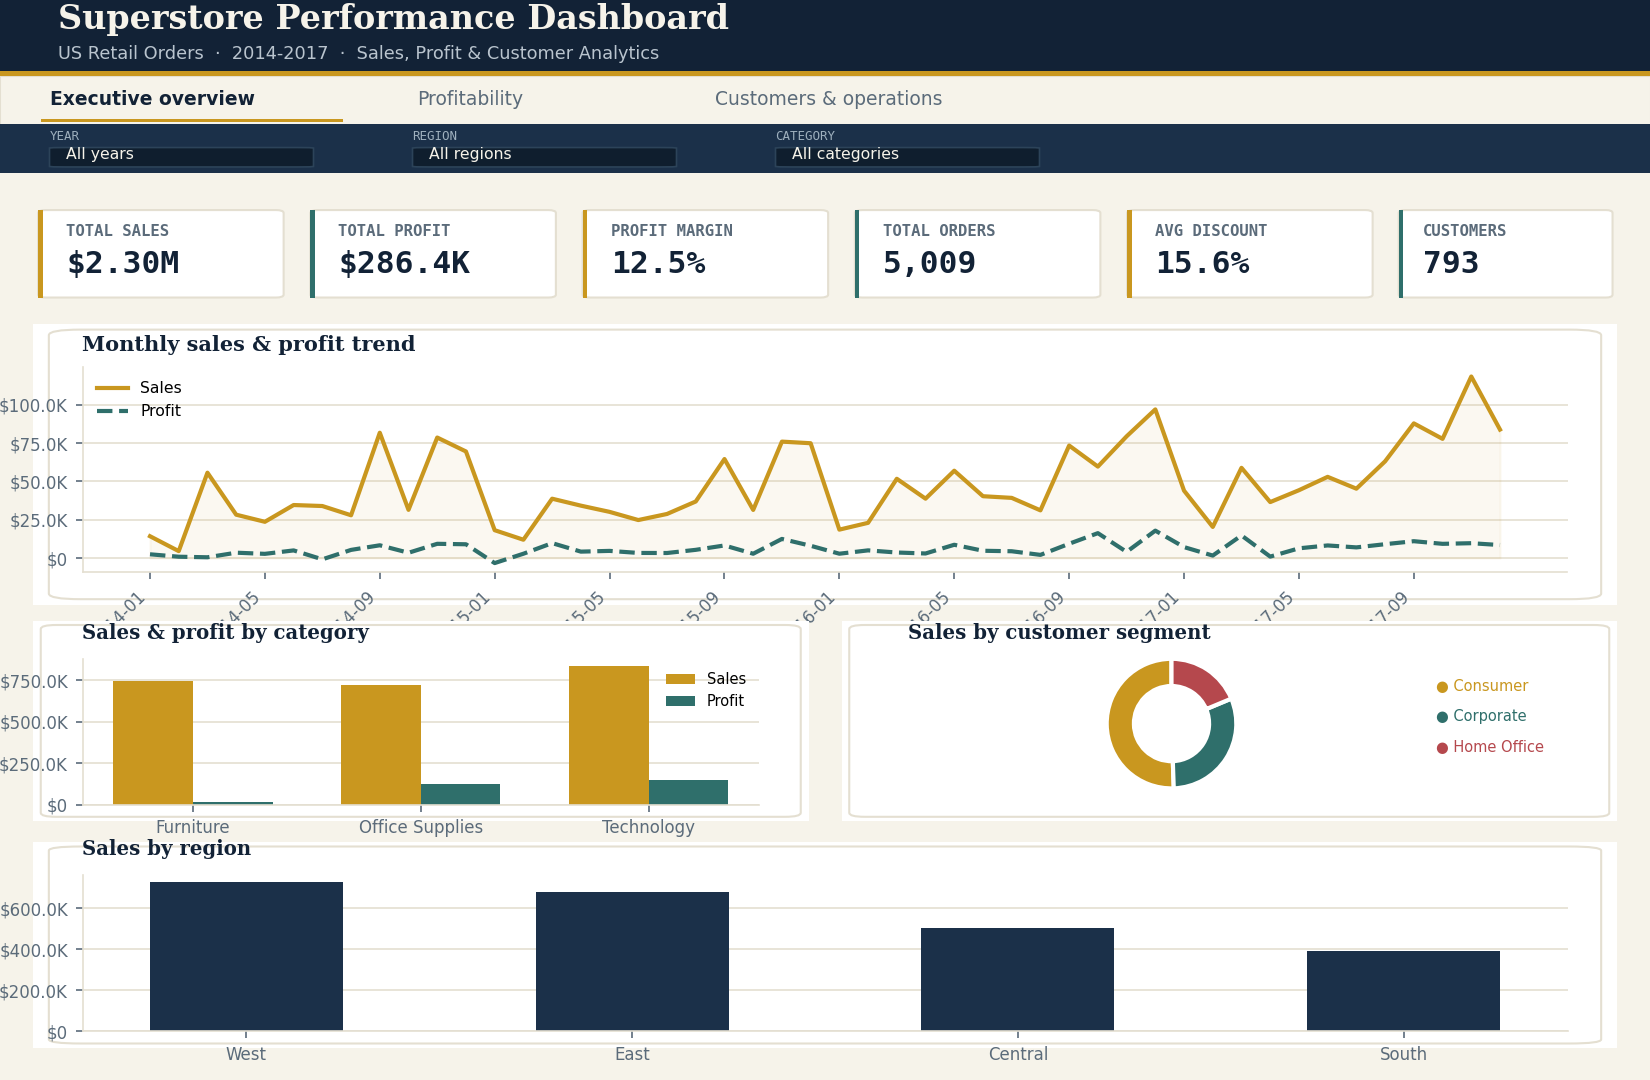

What the dashboard file says about the page in this screenshot:
{"tool":"powerbi","page":{"name":"Overview","canvas":[1700,1800],"ordinal":0},"visuals":[{"type":"cardVisual","fields":{"Data":["customer.Total Sales"]},"box":[15,317.5,340,165],"z":0},{"type":"lineChart","title":"Monthly sales & profit trend","fields":{"Category":["DateTable.Date"],"Y":["customer.Total Sales","customer.Total Profit"]},"box":[15,505,1620,462.5],"z":1000},{"type":"clusteredColumnChart","title":"Sales & profit by category","fields":{"Category":["customer.Category"],"Y":["customer.Total Sales","customer.Total Profit"]},"box":[15,990,820,455],"z":2000},{"type":"donutChart","title":"Sales by customer segment","fields":{"Category":["customer.Segment"],"Y":["customer.Total Sales"]},"box":[900,990,735,455],"z":3000},{"type":"barChart","title":"Sales by region","fields":{"Category":["customer.Region"],"Y":["customer.Total Sales"]},"box":[15,1485,1620,280],"z":4000},{"type":"shape","box":[0,0,1800,126],"z":5000},{"type":"textbox","box":[0,0,1800,105],"z":6000},{"type":"shape","box":[0,104,1800,44],"z":7000},{"type":"shape","box":[0,125,1800,170],"z":8000},{"type":"slicer","fields":{"Values":["DateTable.Year"]},"box":[15,140,340,135],"z":9000},{"type":"slicer","fields":{"Values":["customer.Region"]},"box":[390,140,342.5,135],"z":10000},{"type":"slicer","fields":{"Values":["customer.Category"]},"box":[765,140,342.5,135],"z":11000},{"type":"cardVisual","fields":{"Data":["customer.Total Profit"]},"box":[390,317.5,340,165],"z":12000},{"type":"cardVisual","fields":{"Data":["customer.Profit Margin %"]},"box":[765,317.5,375,165],"z":13000},{"type":"cardVisual","fields":{"Data":["customer.Total Orders"]},"box":[1172.5,317.5,340,165],"z":14000}]}

Visuals, with their boxes on the page's 1700x1800 design canvas (x1, y1, x2, y2). These are canvas units, not pixel positions in the 1650x1080 screenshot, which may show the page scaled, cropped or inside an application window:
cardVisual - customer.Total Sales: region(15, 318, 355, 482)
"Monthly sales & profit trend" lineChart: region(15, 505, 1635, 968)
"Sales & profit by category" clusteredColumnChart: region(15, 990, 835, 1445)
"Sales by customer segment" donutChart: region(900, 990, 1635, 1445)
"Sales by region" barChart: region(15, 1485, 1635, 1765)
shape: region(0, 0, 1800, 126)
textbox: region(0, 0, 1800, 105)
shape: region(0, 104, 1800, 148)
shape: region(0, 125, 1800, 295)
slicer - DateTable.Year: region(15, 140, 355, 275)
slicer - customer.Region: region(390, 140, 732, 275)
slicer - customer.Category: region(765, 140, 1108, 275)
cardVisual - customer.Total Profit: region(390, 318, 730, 482)
cardVisual - customer.Profit Margin %: region(765, 318, 1140, 482)
cardVisual - customer.Total Orders: region(1172, 318, 1512, 482)
